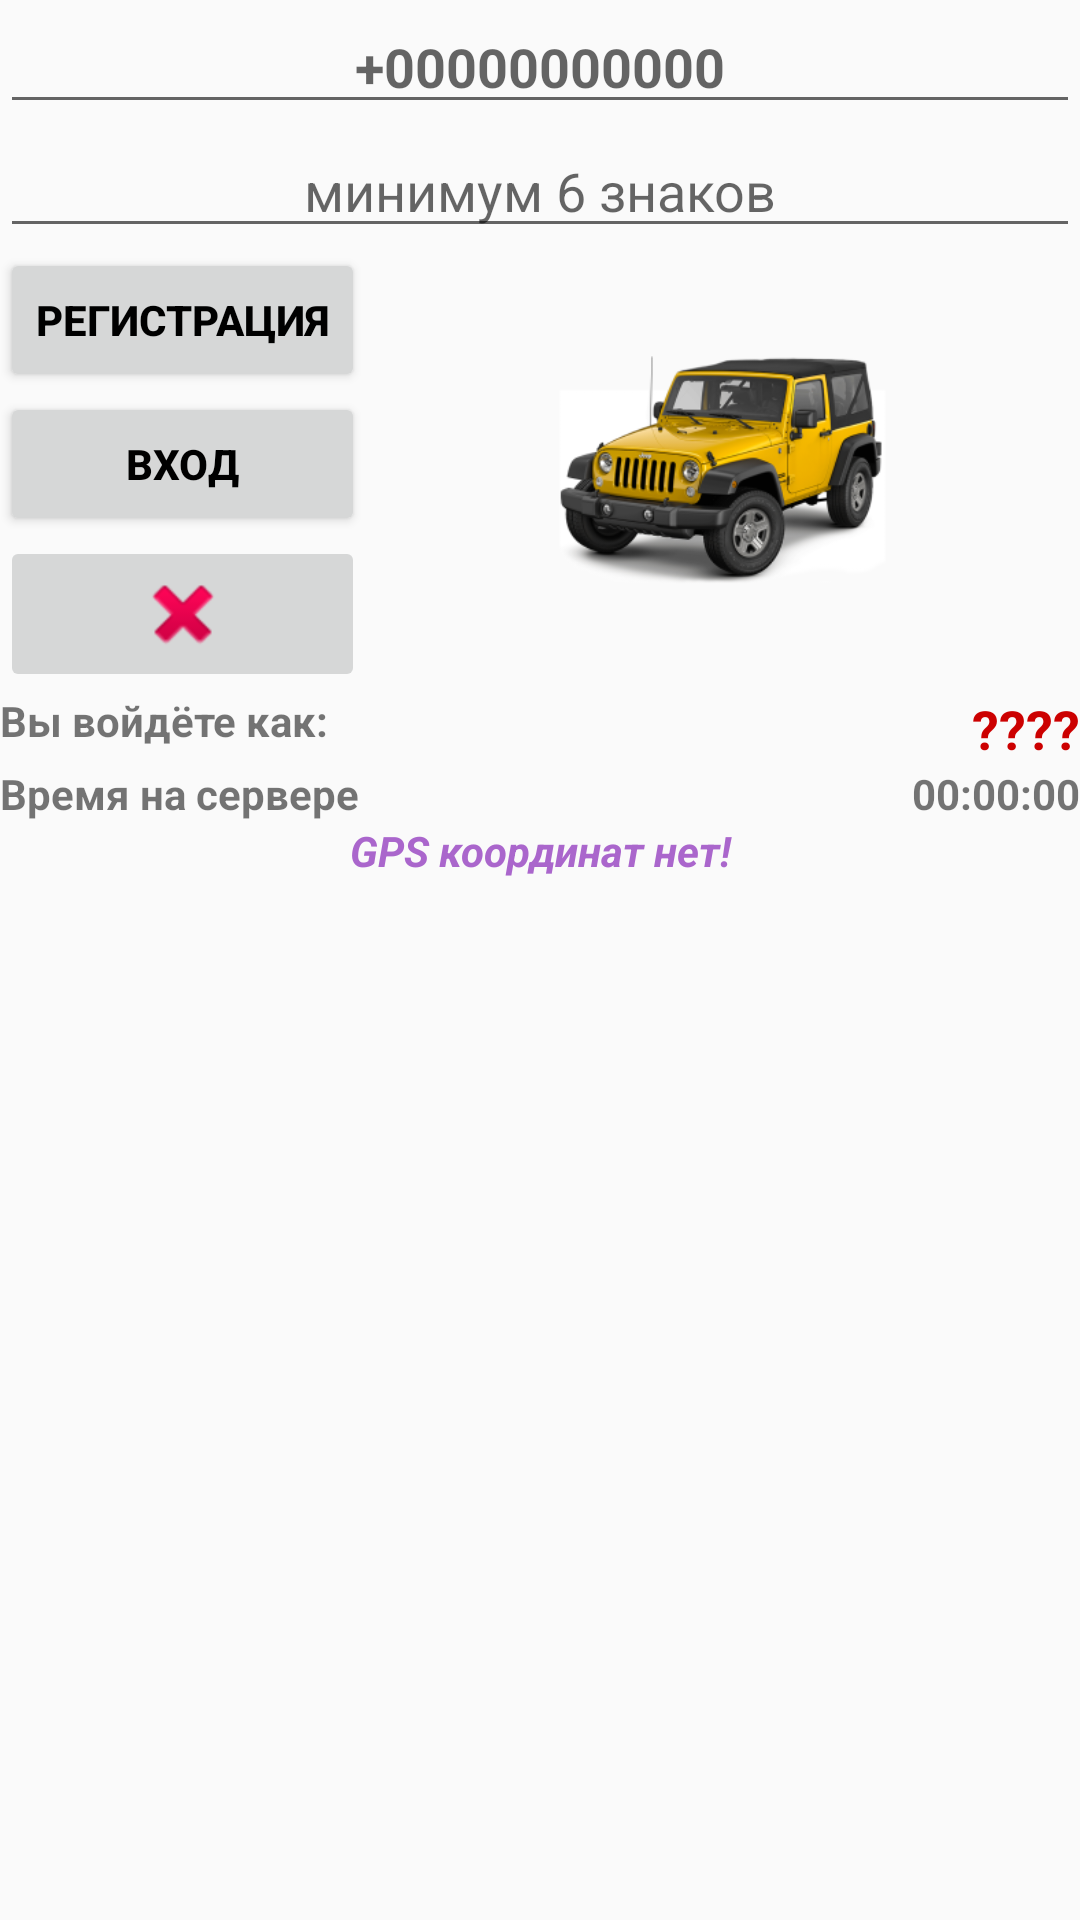

Screen size 1080px x 1920px. Icon name, then its center in pixels as point (x, y):
Выход: point (182, 614)
